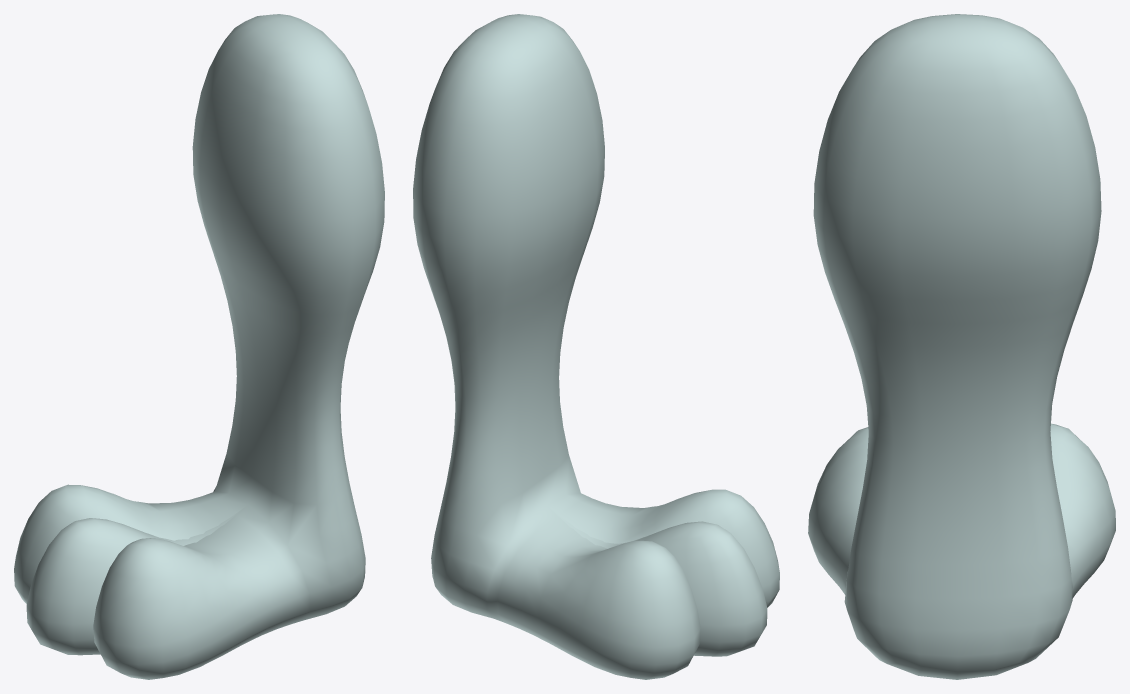
File: Paws.fbx
The picture shows the model from 3 angles, left to right: view 1: azimuth 30°, elevation 25°; view 2: azimuth 150°, elevation 25°; view 3: azimuth 270°, elevation 25°; orthographic projection. The views are drawn at different scales.
Visible parts, largest first — view 1: Cube.057; view 2: Cube.057; view 3: Cube.057.
Boxes of the visible parts, x1,y1,x2,y2 form: Cube.057: (14,14,384,679); Cube.057: (413,14,779,679); Cube.057: (808,14,1115,679).
Size of the model in its own units: 289 by 493 by 213.
